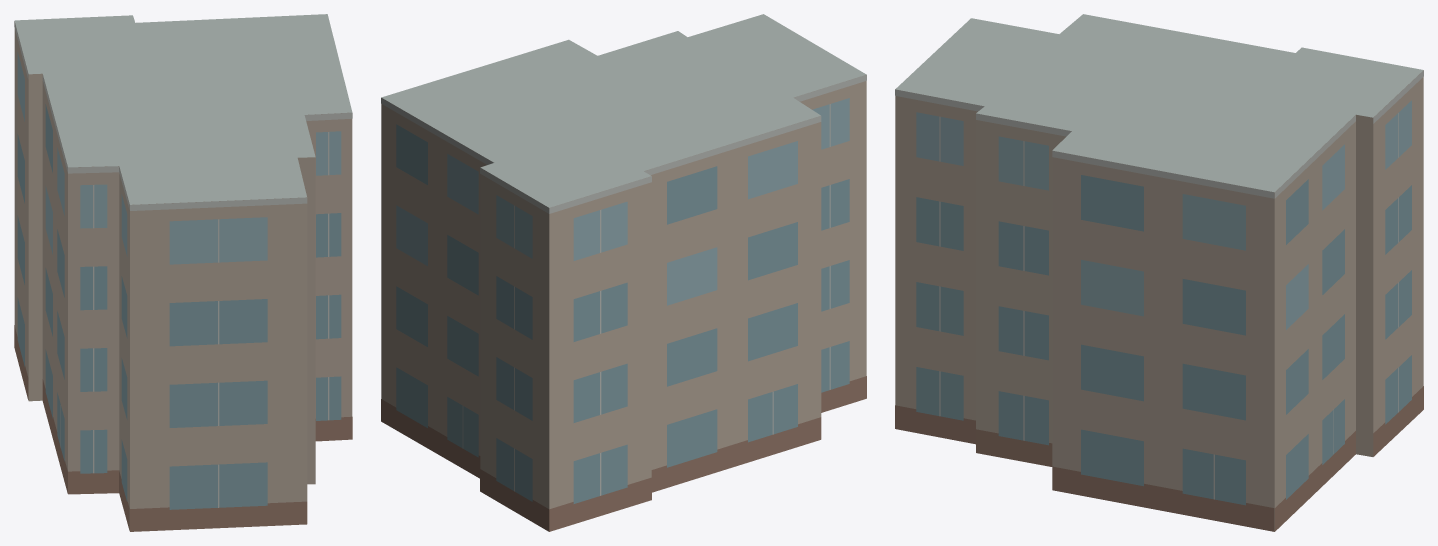
File: survey-upis-32954169.glb
3 views of the same model, side by side, from view 1: azimuth 30°, elevation 25°; view 2: azimuth 150°, elevation 25°; view 3: azimuth 270°, elevation 25° (orthographic). The views are drawn at different scales.
Visible parts, largest first — view 1: survey-upis-32954169.tmp; view 2: survey-upis-32954169.tmp; view 3: survey-upis-32954169.tmp.
Part boxes in pixels (bbox=[...]): survey-upis-32954169.tmp: bbox=[14, 14, 352, 531]; survey-upis-32954169.tmp: bbox=[381, 14, 866, 531]; survey-upis-32954169.tmp: bbox=[895, 14, 1423, 531].
Bounding box in the file's own units: 14.45 × 12.82 × 18.1.
